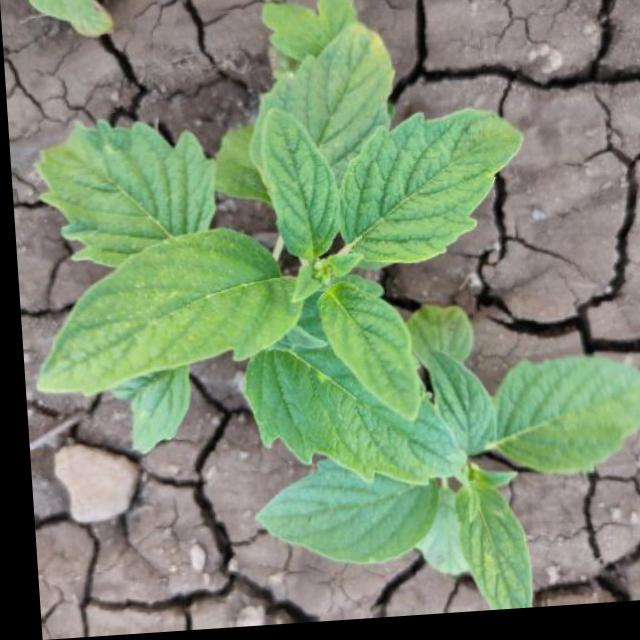crop: (30, 44, 567, 442), (211, 332, 640, 615)
